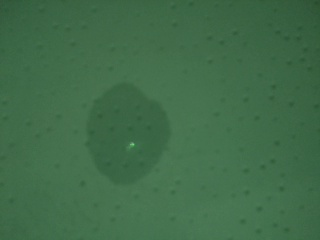Water_detected: (84, 100, 159, 179)
